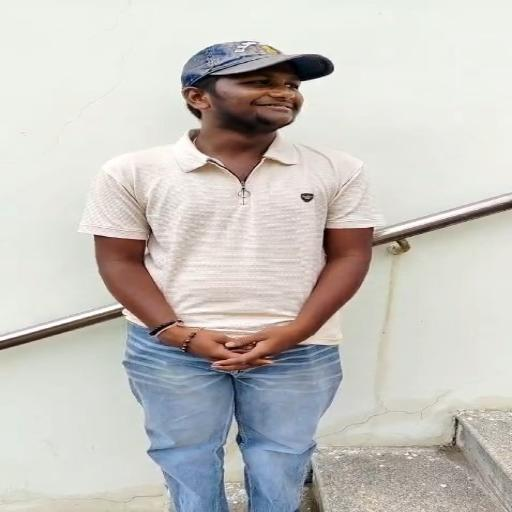employee-detectio-system: (84, 32, 387, 292)
